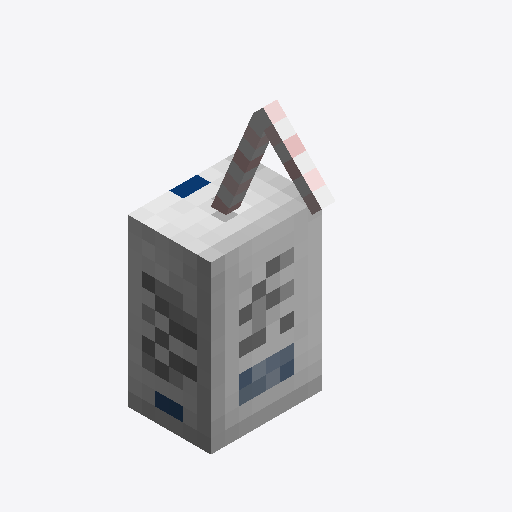
Isometric view (azimuth 45°, elevation 35.3°) of a Minecraft model made of 3 cuboids, textured from the same repository.
Visible parts, largest first — element 1, element 3, element 2.
Part boxes in pixels (x1,y1,x2,y2): element 1: (128,153,321,453); element 3: (254,100,334,214); element 2: (211,106,268,214).
Size of the model in its own units: 8 by 20.08 by 10.51.